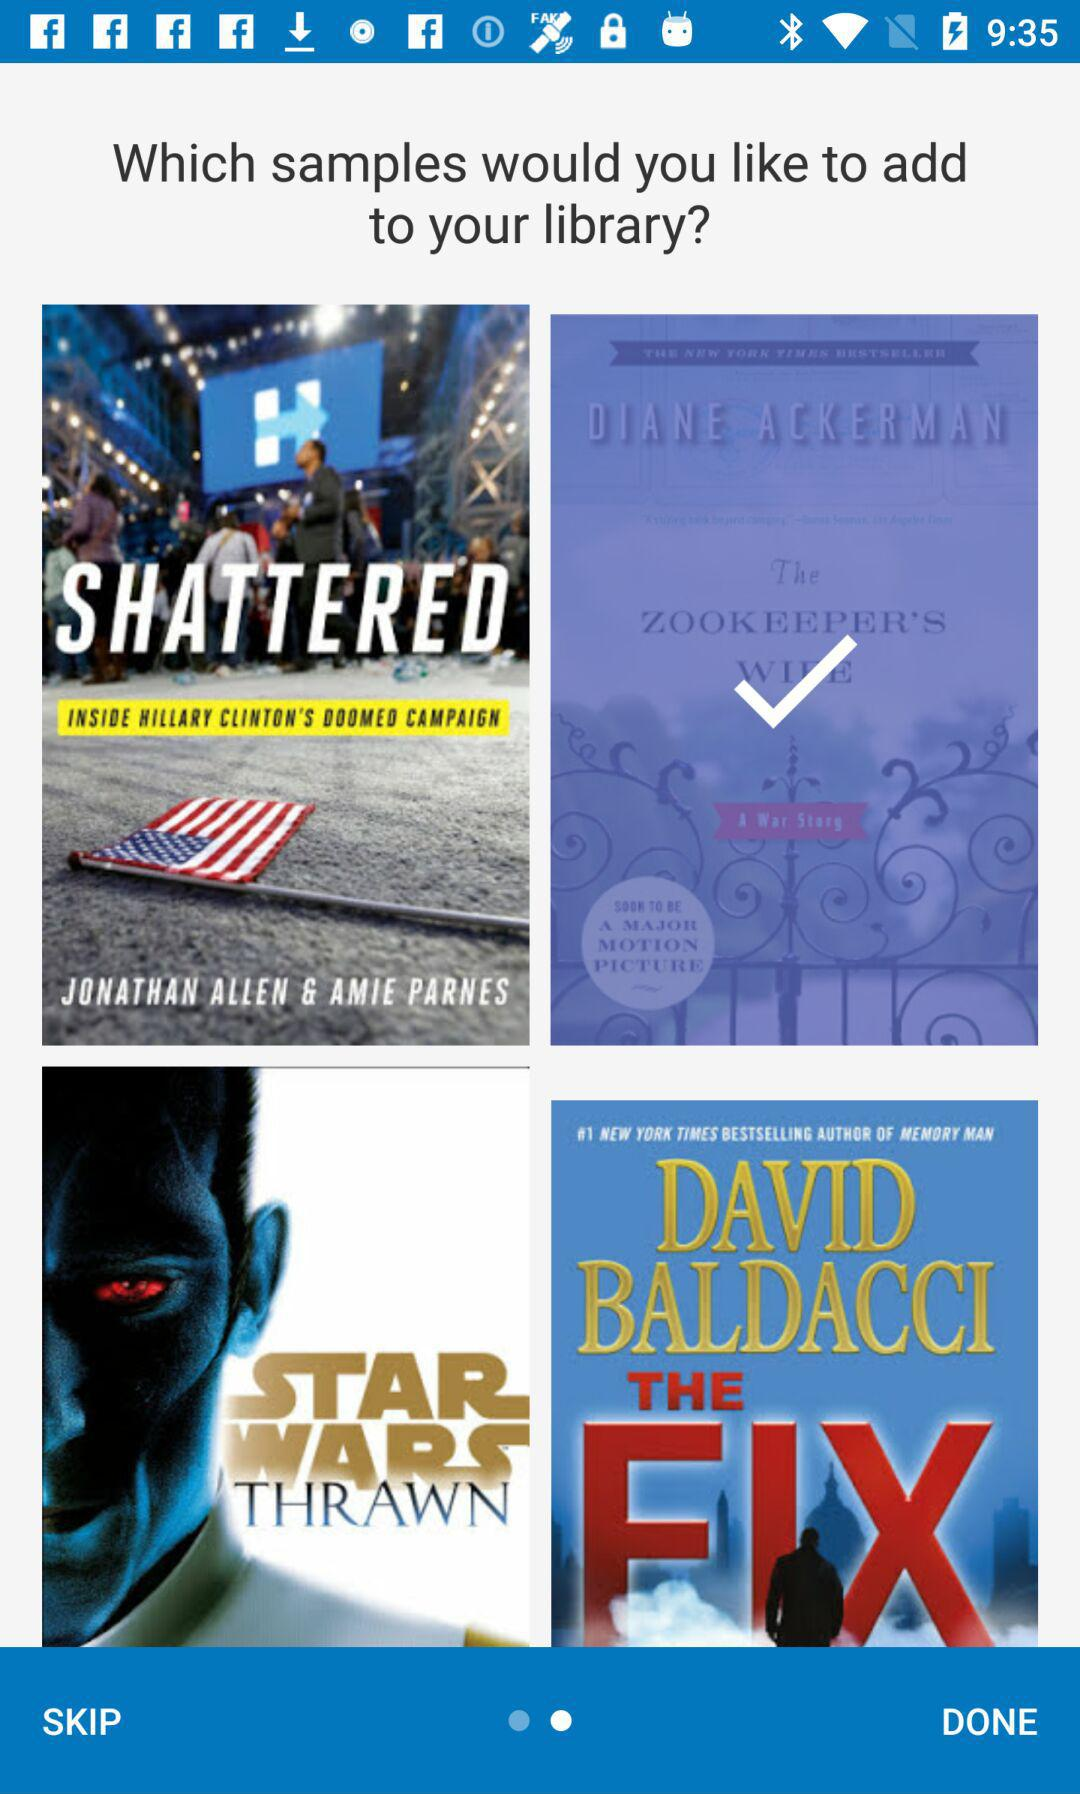Icon: (732, 634, 861, 730)
Image: (44, 305, 530, 1046), (551, 315, 1038, 1046), (44, 1067, 530, 1647), (552, 1099, 1039, 1647)
PageIndicator: (507, 1708, 574, 1732)
Text: (113, 141, 967, 256), (943, 1706, 1038, 1738), (44, 1707, 123, 1738)
UpperTaskBar: (1, 1, 1080, 64)
